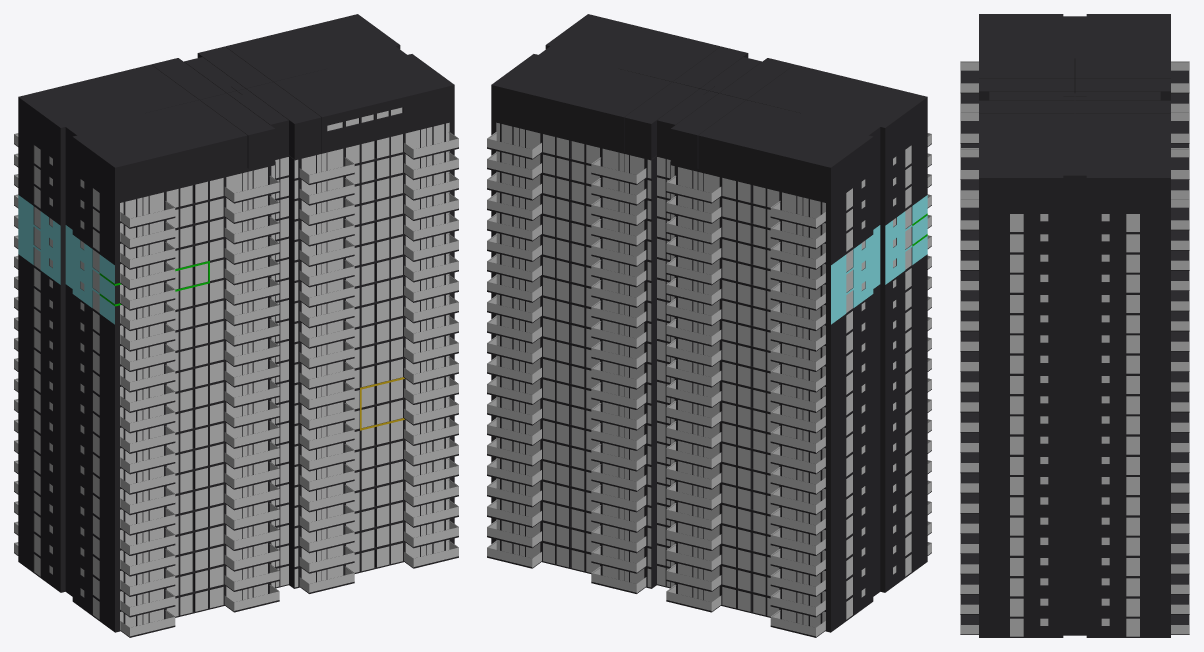
Rendered from highrise.obj.
3 renders of one model, left to right at view 1: azimuth 30°, elevation 25°; view 2: azimuth 150°, elevation 25°; view 3: azimuth 270°, elevation 25°, orthographic.
Parts seen in each view (by area): view 1: floor1_Cube.001; view 2: floor1_Cube.001; view 3: floor1_Cube.001.
Boxes of the visible parts, box(x1,y1,x2,y2) form: floor1_Cube.001: box(14, 14, 458, 637); floor1_Cube.001: box(487, 14, 931, 637); floor1_Cube.001: box(960, 14, 1189, 637).
Size of the model in its own units: 34.77 by 45.47 by 20.56.
